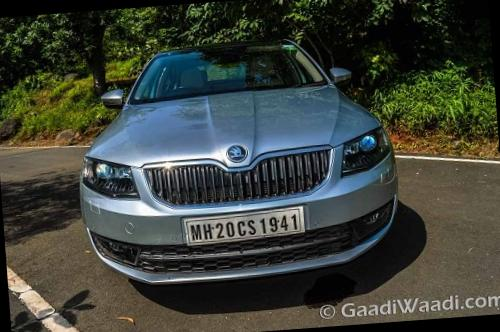plate: (169, 197, 320, 260)
